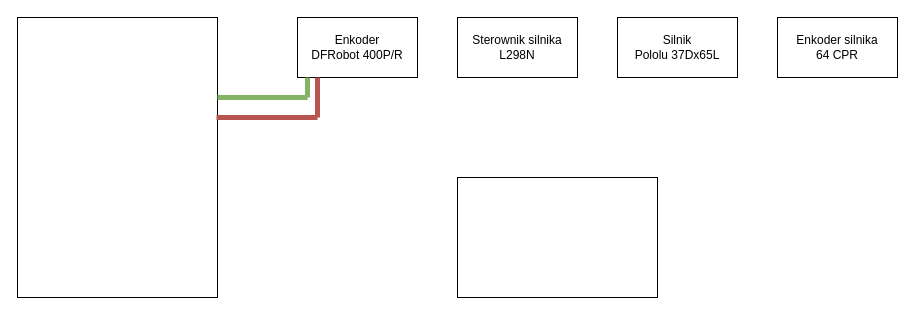
Some shapes in this 915 by 315 pixel diagram are drawn without their labels. Each missing label, with the box of its shape:
Mikrokontroler STM32F407 Discovery: (16, 16, 218, 298)
Zasilacz ATX 400W: (456, 176, 658, 298)
